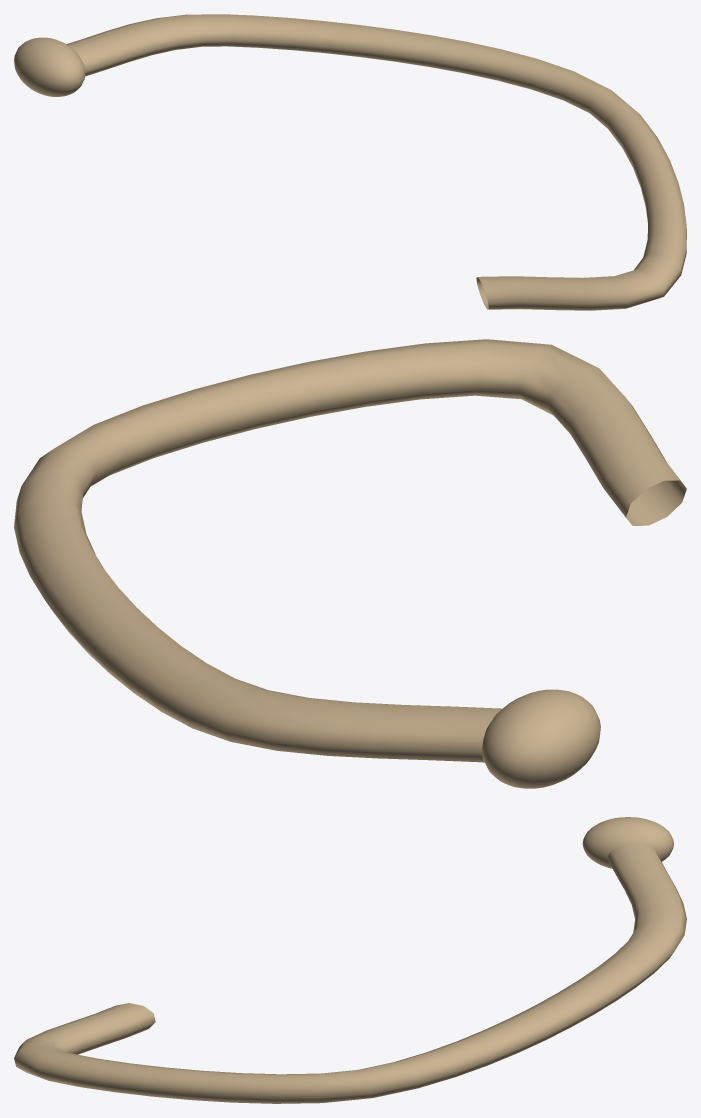
File: left_rib_12.glb
3 renders of one model, top to bottom at view 1: azimuth 30°, elevation 25°; view 2: azimuth 150°, elevation 25°; view 3: azimuth 270°, elevation 25°, orthographic. The views are drawn at different scales.
Parts seen in each view (by area): view 1: left_rib_12:costal-body, left_rib_12:head; view 2: left_rib_12:costal-body, left_rib_12:head; view 3: left_rib_12:costal-body, left_rib_12:head.
Part boxes in pixels (left/top/right/bottom): left_rib_12:costal-body: left=66, top=14, right=686, bottom=310; left_rib_12:head: left=14, top=37, right=85, bottom=96; left_rib_12:costal-body: left=14, top=339, right=686, bottom=762; left_rib_12:head: left=481, top=689, right=600, bottom=788; left_rib_12:costal-body: left=14, top=844, right=686, bottom=1103; left_rib_12:head: left=582, top=817, right=673, bottom=868.
Size of the model in its own units: 0.3169 by 0.081 by 0.405.
